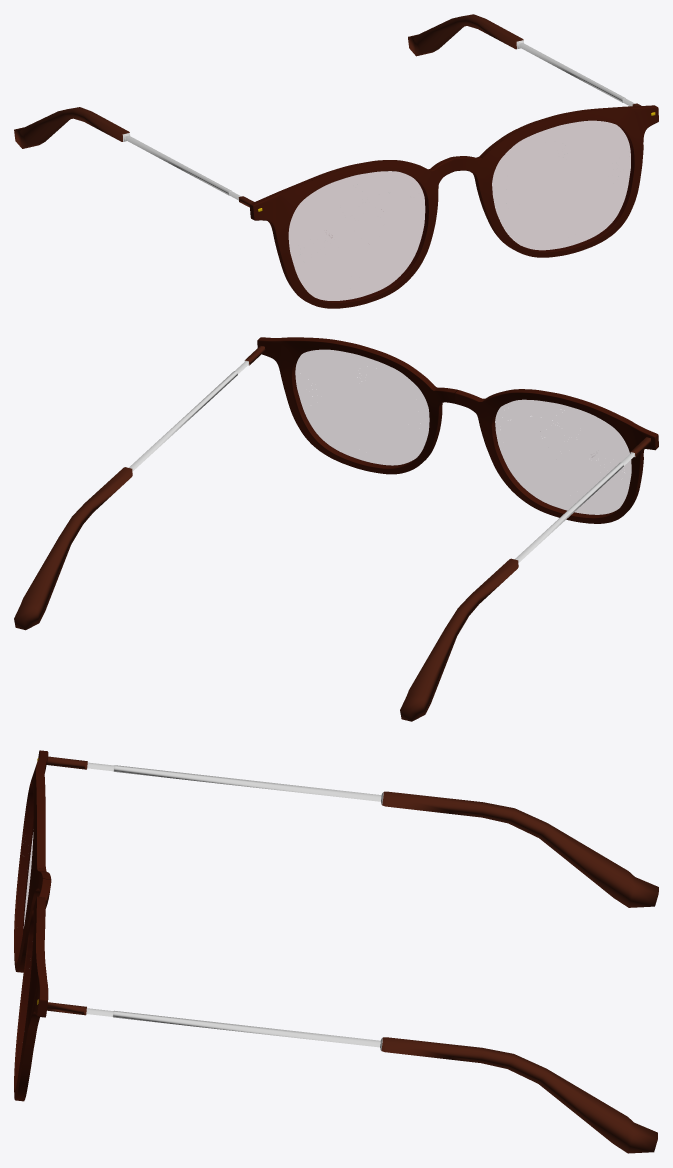
The model's file is The Artisan.glb.
The picture shows the model from 3 angles, top to bottom: view 1: azimuth 30°, elevation 25°; view 2: azimuth 150°, elevation 25°; view 3: azimuth 270°, elevation 25°; orthographic projection. The views are drawn at different scales.
Visible parts, largest first — view 1: glass finish.005; view 2: glass finish.005; view 3: glass finish.005.
Part boxes in pixels (x1=…): glass finish.005: x1=14, y1=14, x2=658, y2=308; glass finish.005: x1=14, y1=337, x2=658, y2=721; glass finish.005: x1=14, y1=750, x2=658, y2=1153.
Size of the model in its own units: 11.47 by 3.56 by 12.3.
